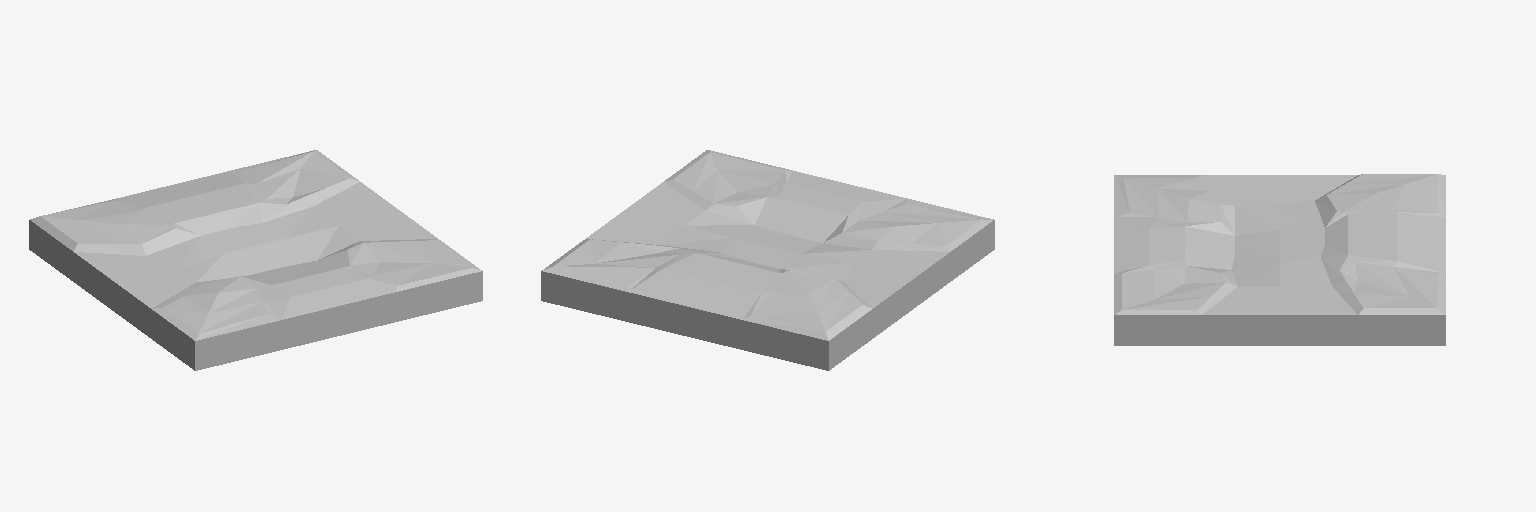
The model's file is Road.obj.
3 renders of one model, left to right at view 1: azimuth 30°, elevation 25°; view 2: azimuth 150°, elevation 25°; view 3: azimuth 270°, elevation 25°, orthographic.
Visible parts, largest first — view 1: Cube; view 2: Cube; view 3: Cube.
Part boxes in pixels (x1,y1,x2,y2): Cube: (29, 150, 482, 370); Cube: (541, 150, 994, 370); Cube: (1114, 174, 1445, 345).
Bounding box in the file's own units: 2 × 0.2586 × 2.